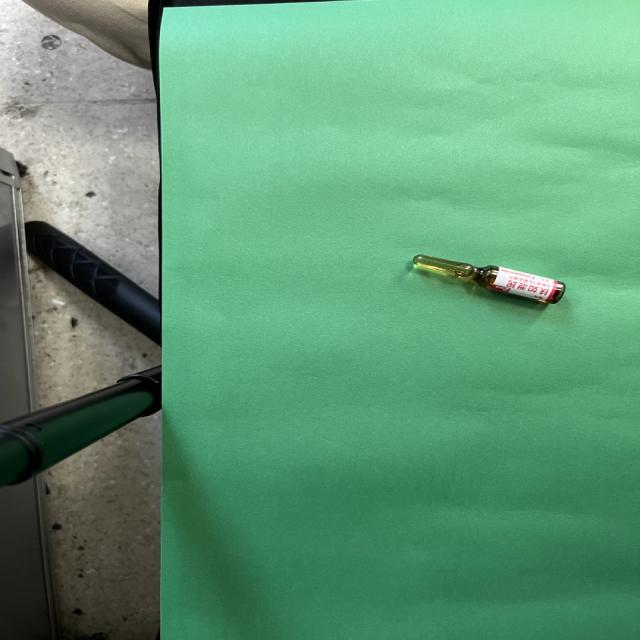Ampoules: (413, 254, 565, 304)
